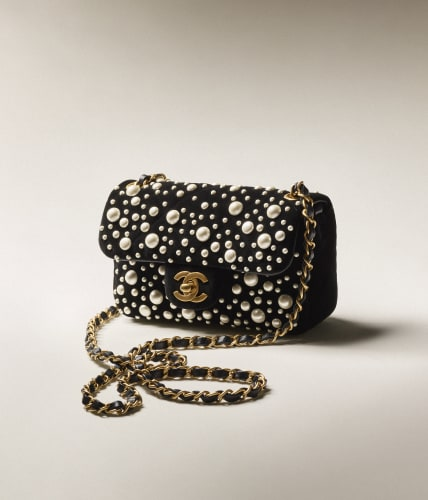channel: (88, 157, 341, 348), (296, 170, 337, 327), (161, 262, 210, 314)
